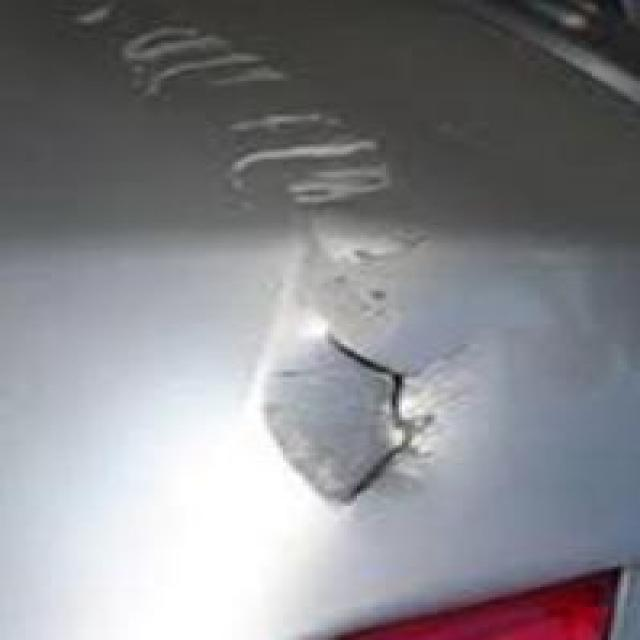scratch: (38, 6, 450, 295)
